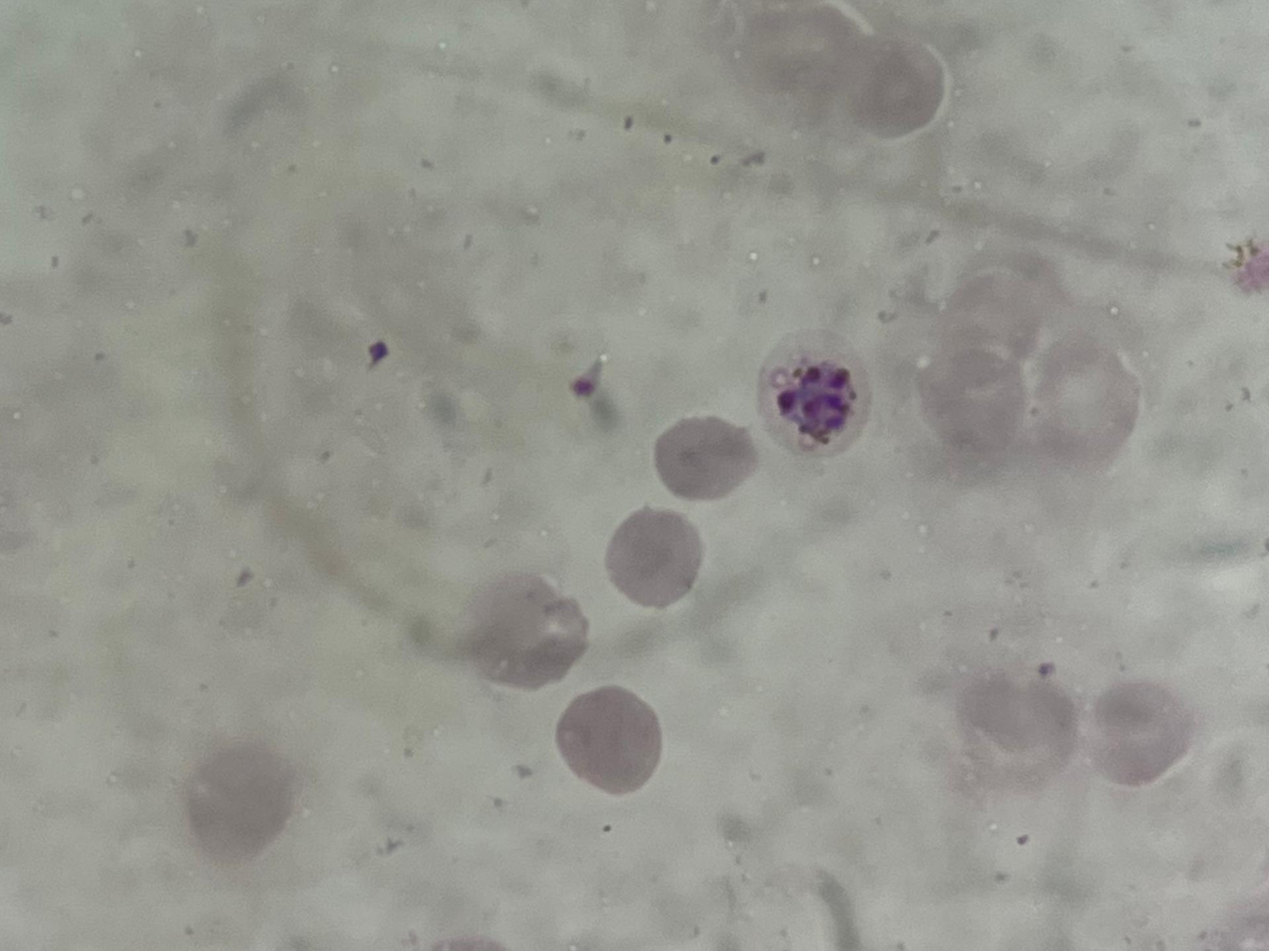Infected: (758, 322, 874, 461)
Uninfected: (465, 571, 585, 696), (185, 739, 300, 866), (1031, 336, 1146, 462), (930, 269, 1043, 389), (1093, 679, 1197, 793), (555, 688, 658, 799), (848, 32, 943, 149), (916, 351, 1016, 461), (608, 507, 704, 612), (654, 413, 756, 495)
